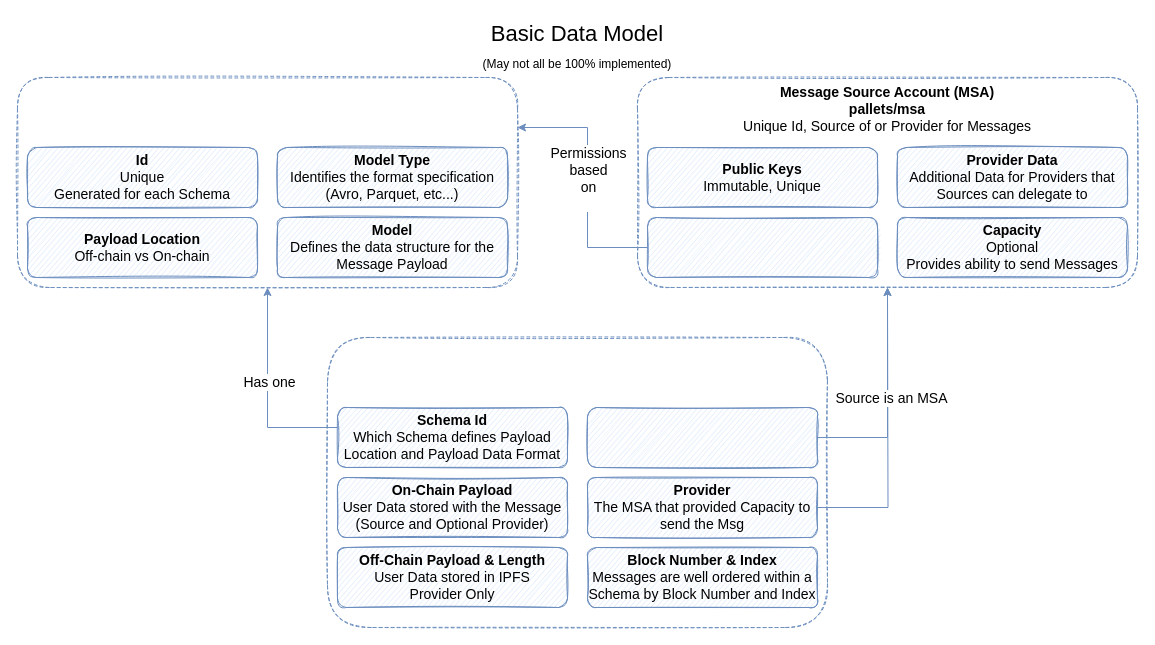
The diagram is 1155 pixels wide and 645 high, and some of its shapes have lost their labels. The box of each missing label's shape, as (x1, y1, x2, y2) in pixels:
Delegations Permissioned relationships between Sources and Providers: (646, 216, 878, 278)
Message pallets/messages A "packet" that a MSA can send that must match a Schema: (326, 336, 828, 628)
Schema pallets/schemas Immutable , Defines data flowing through the chain: (16, 76, 518, 288)
Source Source of the Message (May be the Provider): (586, 406, 818, 468)
